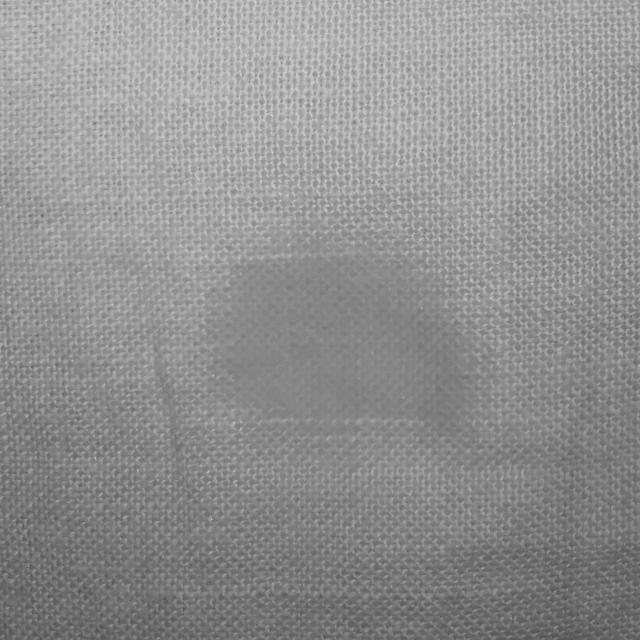Stain: (211, 256, 477, 429)
